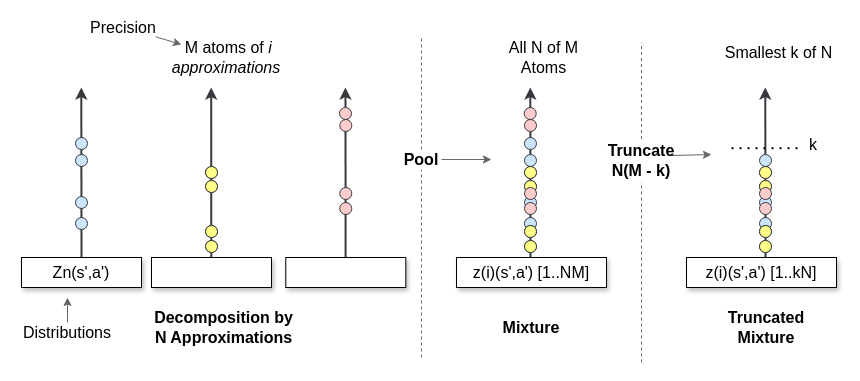
This 860x381 diagram has some shape labels left out. Here are the shapes that lost their labels. From the top down, the centre of each, then its label:
pixel 212 273: Z 1 (s',a')
pixel 346 273: Zi(s',a')
